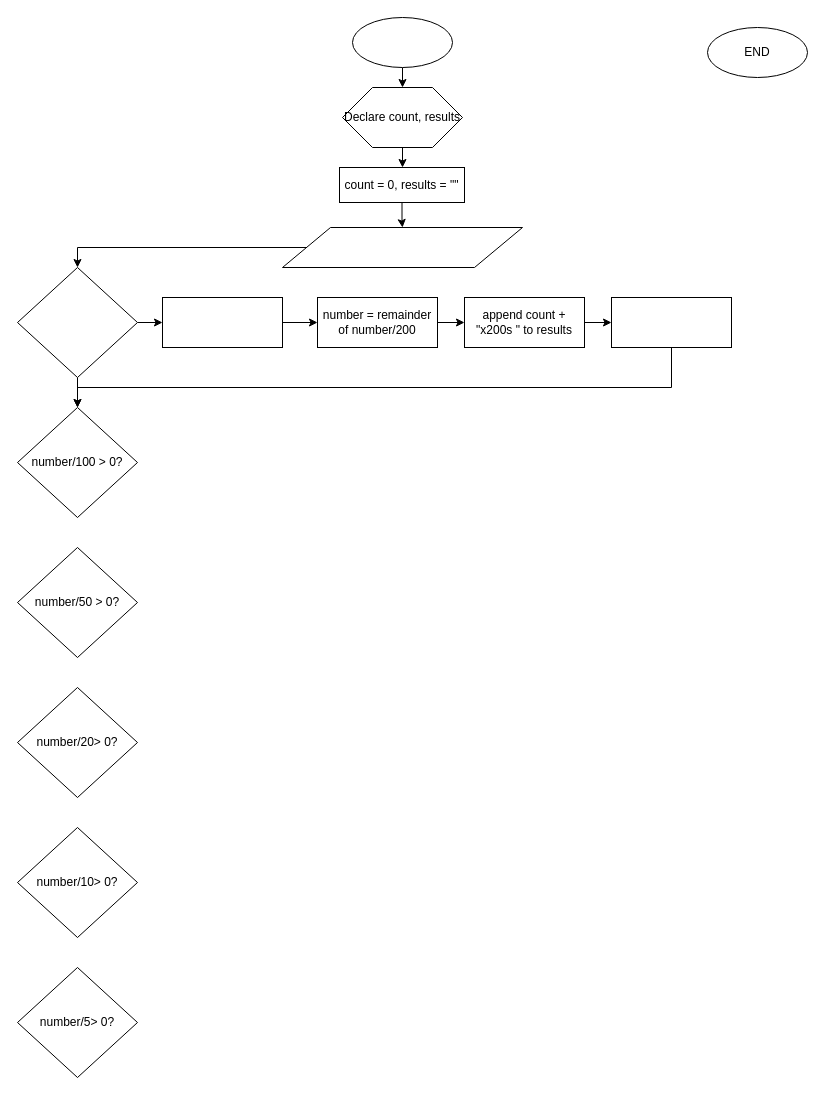
Image size: 825x1095. Some labels were removed from this diagram. Here are the shapes that lost their labels. From the top down, the centre of each, then its label:
(402,42): START
(402,247): Ask user for an integer number
(77,322): number/200 > 0?
(222,322): count = quotient of number/200
(671,322): reset back count to zero
